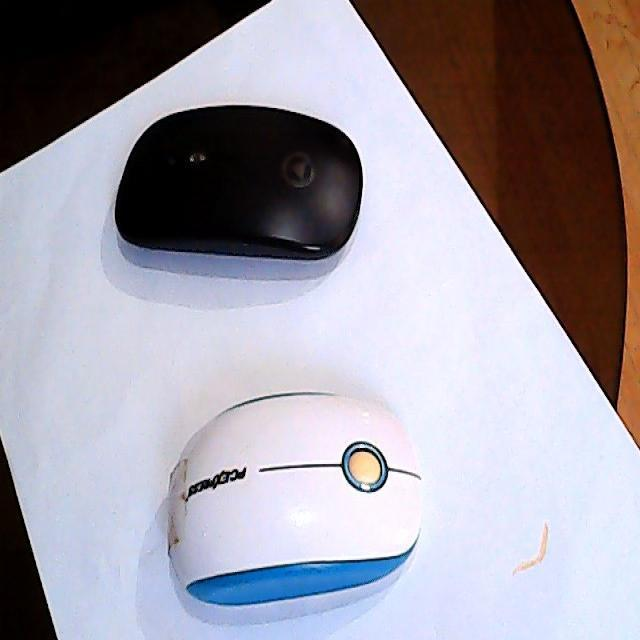Mouse: (163, 388, 427, 606), (114, 101, 366, 266)
